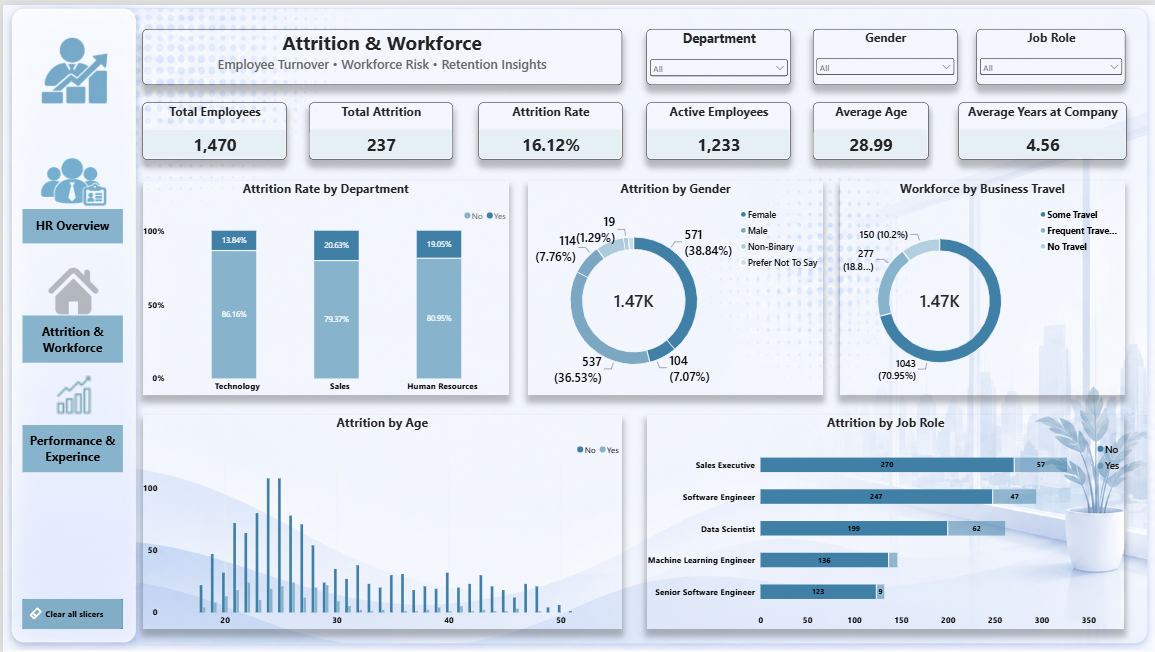

The page's visual inventory and layout, read from the dashboard file:
{"tool":"powerbi","page":{"name":"Attrition & Workforce","canvas":[1920,1080],"ordinal":1},"visuals":[{"type":"textbox","box":[231.4,40.6,799.3,93.1],"z":0},{"type":"cardVisual","title":"Total Attrition","fields":{"Data":["employees_clean.Total Attrition"]},"box":[510,162.5,240,95],"z":1000},{"type":"cardVisual","title":"Average Years at Company","fields":{"Data":["employees_clean.Average Years at Company"]},"box":[1592.5,162.5,280,95],"z":2000},{"type":"cardVisual","title":"Attrition Rate","fields":{"Data":["employees_clean.Atrtrititon Rate"]},"box":[792.5,162.5,240,95],"z":3000},{"type":"hundredPercentStackedColumnChart","title":"Attrition Rate by Department","fields":{"Category":["employees_clean.Department"],"Series":["employees_clean.Attrition"],"Y":["CountNonNull(employees_clean.EmployeeID)"]},"box":[231.4,293.5,610.8,357.9],"z":4000},{"type":"donutChart","title":"Attrition by Gender","fields":{"Category":["employees_clean.Gender"],"Series":["employees_clean.Attrition"],"Y":["CountNonNull(employees_clean.EmployeeID)"]},"box":[875.6,293.5,491.5,357.9],"z":5000},{"type":"clusteredColumnChart","title":"Attrition by Age","fields":{"Category":["employees_clean.Age"],"Series":["employees_clean.Attrition"],"Y":["CountNonNull(employees_clean.EmployeeID)"]},"box":[231.4,682.4,799.3,357.9],"z":6000},{"type":"barChart","title":"Attrition by Job Role","fields":{"Category":["employees_clean.JobRole"],"Series":["employees_clean.Attrition"],"Y":["CountNonNull(employees_clean.EmployeeID)"]},"box":[1073.7,682.4,796.9,357.9],"z":7000},{"type":"slicer","title":"Department","fields":{"Values":["employees_clean.Department"]},"box":[1071.3,40.6,241,93.1],"z":8000},{"type":"slicer","title":"Gender","fields":{"Values":["employees_clean.Gender"]},"box":[1350.4,40.6,241,93.1],"z":9000},{"type":"slicer","title":"Job Role","fields":{"Values":["employees_clean.JobRole"]},"box":[1622.4,40.6,248.1,93.1],"z":10000},{"type":"actionButton","box":[33.4,990.2,167,50.1],"z":11000},{"type":"actionButton","box":[33.4,338.8,167,57.3],"z":12000},{"type":"actionButton","box":[33.4,517.7,167,78.7],"z":13000},{"type":"actionButton","box":[33.4,699.1,167,78.7],"z":14000},{"type":"cardVisual","title":"Total Employees","fields":{"Data":["employees_clean.Total Employees"]},"box":[232.5,162.5,240,95],"z":15000},{"type":"cardVisual","title":"Average Age","fields":{"Data":["employees_clean.Average Age"]},"box":[1350,162.5,192.5,95],"z":16000},{"type":"cardVisual","title":"Active Employees","fields":{"Data":["employees_clean.Active Employee"]},"box":[1072.5,162.5,240,95],"z":17000},{"type":"donutChart","title":"Workforce by Business Travel","fields":{"Category":["employees_clean.BusinessTravel"],"Y":["CountNonNull(employees_clean.EmployeeID)"]},"box":[1395.8,293.5,474.8,357.9],"z":18000},{"type":"image","box":[47.7,245.7,136,95.4],"z":19000},{"type":"image","box":[64.4,434.2,105,83.5],"z":20000},{"type":"image","box":[76.3,618,81.1,64.4],"z":21000},{"type":"image","box":[33.4,40.6,167,131.2],"z":22000}]}

Visuals, with their boxes in screenshot pixels (x1, y1, x2, y2), scaled from the page's 1920x1080 canvas onto the 1155x652 screenshot:
textbox: (139, 25, 620, 81)
"Total Attrition" cardVisual: (307, 98, 451, 155)
"Average Years at Company" cardVisual: (958, 98, 1126, 155)
"Attrition Rate" cardVisual: (477, 98, 621, 155)
"Attrition Rate by Department" hundredPercentStackedColumnChart: (139, 177, 507, 393)
"Attrition by Gender" donutChart: (527, 177, 822, 393)
"Attrition by Age" clusteredColumnChart: (139, 412, 620, 628)
"Attrition by Job Role" barChart: (646, 412, 1125, 628)
"Department" slicer: (644, 25, 789, 81)
"Gender" slicer: (812, 25, 957, 81)
"Job Role" slicer: (976, 25, 1125, 81)
actionButton: (20, 598, 121, 628)
actionButton: (20, 205, 121, 239)
actionButton: (20, 313, 121, 360)
actionButton: (20, 422, 121, 470)
"Total Employees" cardVisual: (140, 98, 284, 155)
"Average Age" cardVisual: (812, 98, 928, 155)
"Active Employees" cardVisual: (645, 98, 790, 155)
"Workforce by Business Travel" donutChart: (840, 177, 1125, 393)
image: (29, 148, 111, 206)
image: (39, 262, 102, 313)
image: (46, 373, 95, 412)
image: (20, 25, 121, 104)
